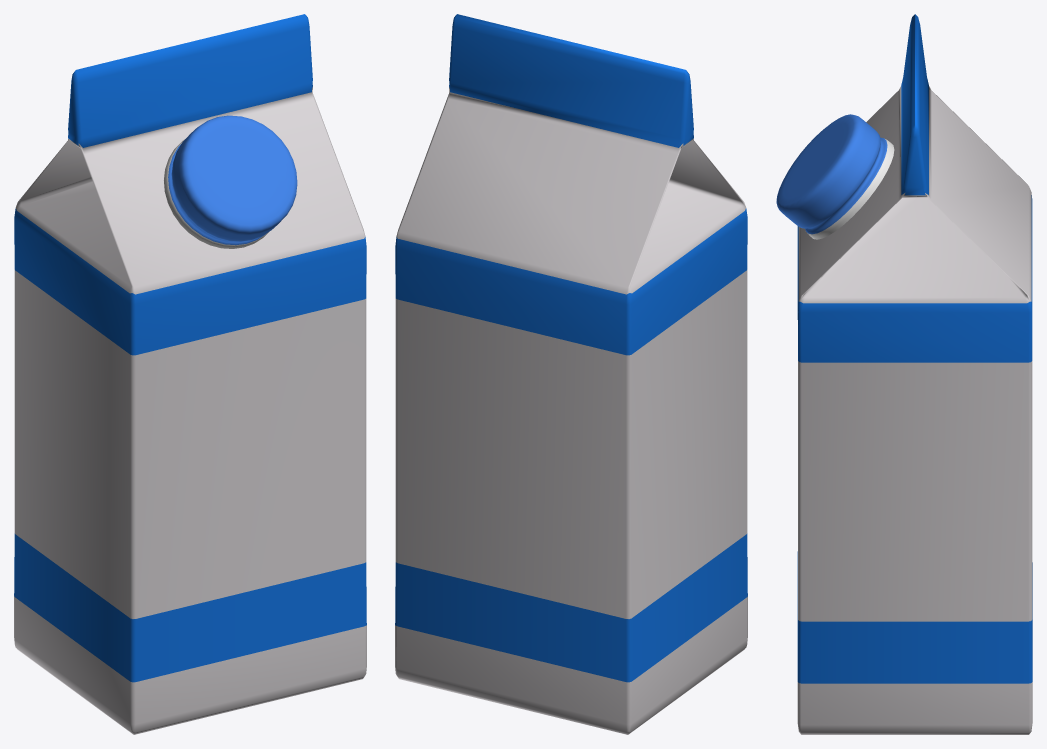
The model's file is Milk.fbx.
3 views of the same model, side by side, from view 1: azimuth 30°, elevation 25°; view 2: azimuth 150°, elevation 25°; view 3: azimuth 270°, elevation 25° (orthographic).
Parts seen in each view (by area): view 1: Milk; view 2: Milk; view 3: Milk.
Part boxes in pixels (x1=…): Milk: x1=14, y1=14, x2=366, y2=734; Milk: x1=395, y1=14, x2=747, y2=734; Milk: x1=776, y1=14, x2=1032, y2=734.
Size of the model in its own units: 61.5 by 155 by 58.81.
